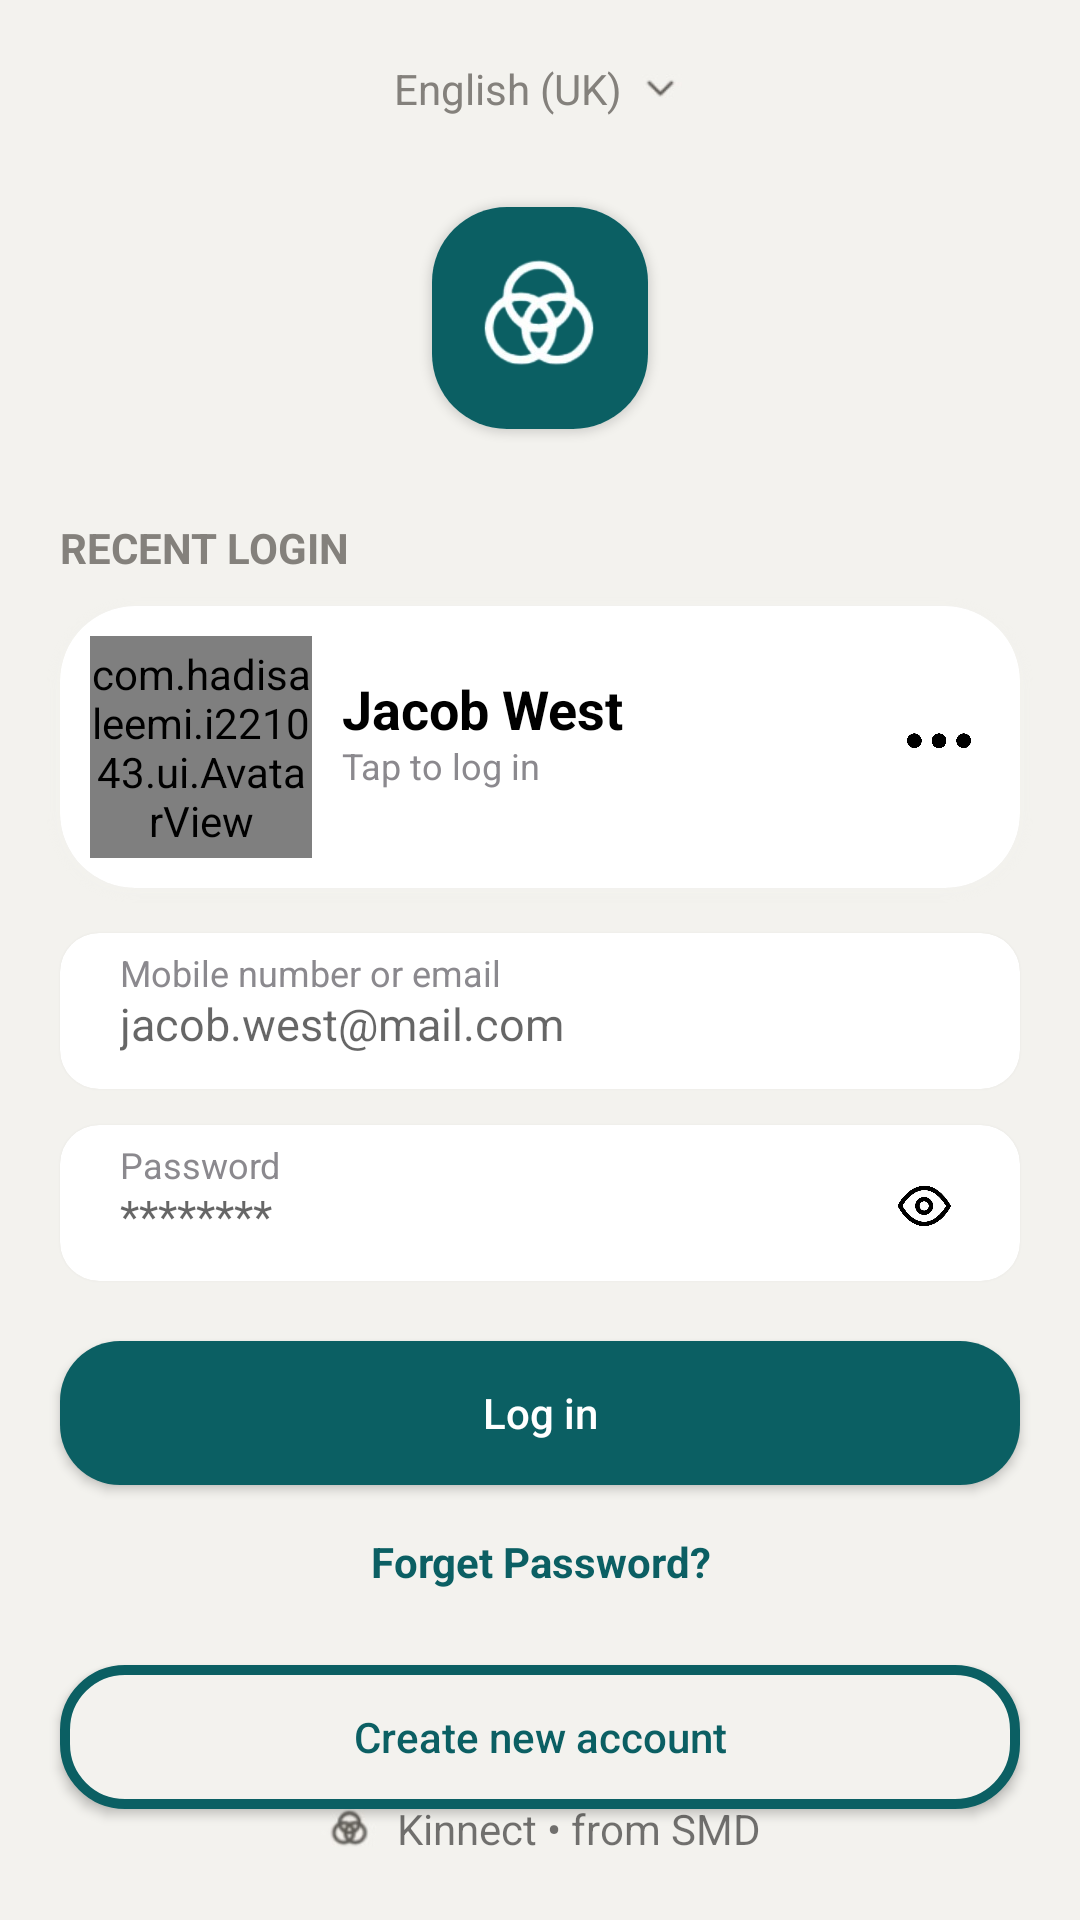

Screen size 1080 x 1920. Icon name, then its box in pixels as [x1,y1,x2,y2]:
drop down arrow: [647,80,674,96]
Show password: [898,1186,951,1226]
three dot: [907,733,971,748]
